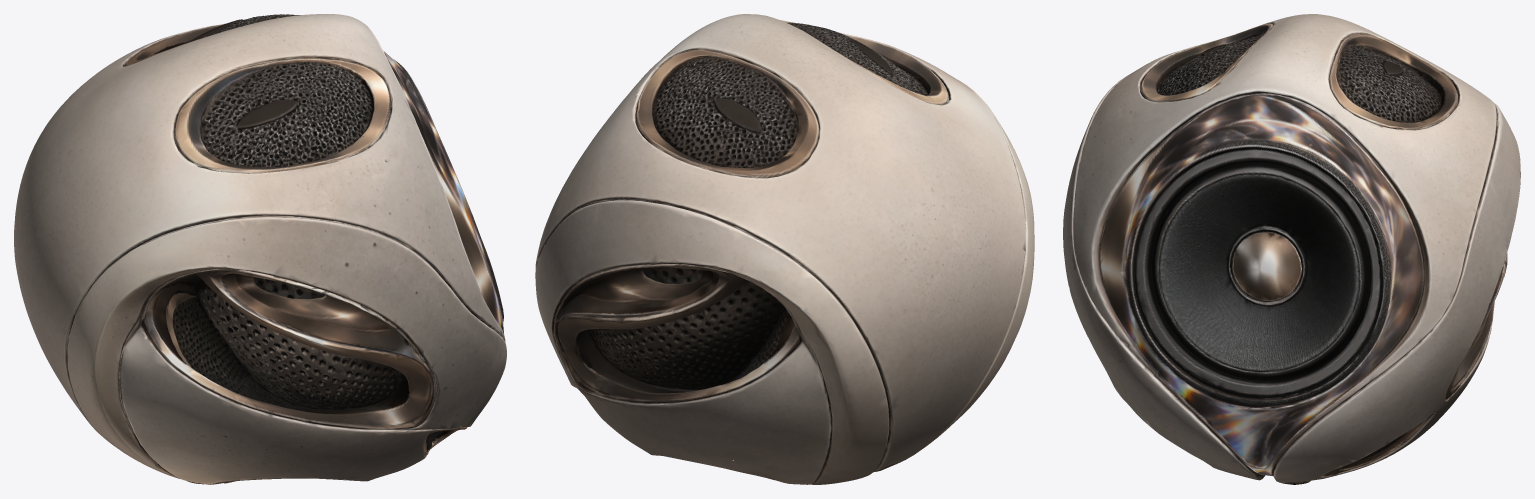
The model's file is speaker-03.glb.
3 renders of one model, left to right at view 1: azimuth 30°, elevation 25°; view 2: azimuth 150°, elevation 25°; view 3: azimuth 270°, elevation 25°, orthographic. The views are drawn at different scales.
Parts seen in each view (by area): view 1: tripo_node_13651592-c5a8-488c-88c8-73025ae18520; view 2: tripo_node_13651592-c5a8-488c-88c8-73025ae18520; view 3: tripo_node_13651592-c5a8-488c-88c8-73025ae18520.
Part boxes in pixels (left/top/right/bottom): tripo_node_13651592-c5a8-488c-88c8-73025ae18520: left=14, top=14, right=506, bottom=484; tripo_node_13651592-c5a8-488c-88c8-73025ae18520: left=535, top=14, right=1034, bottom=484; tripo_node_13651592-c5a8-488c-88c8-73025ae18520: left=1063, top=14, right=1520, bottom=484.
Bounding box in the file's own units: 0.9738 × 0.9361 × 0.9794.
1 material, 1 textured.
